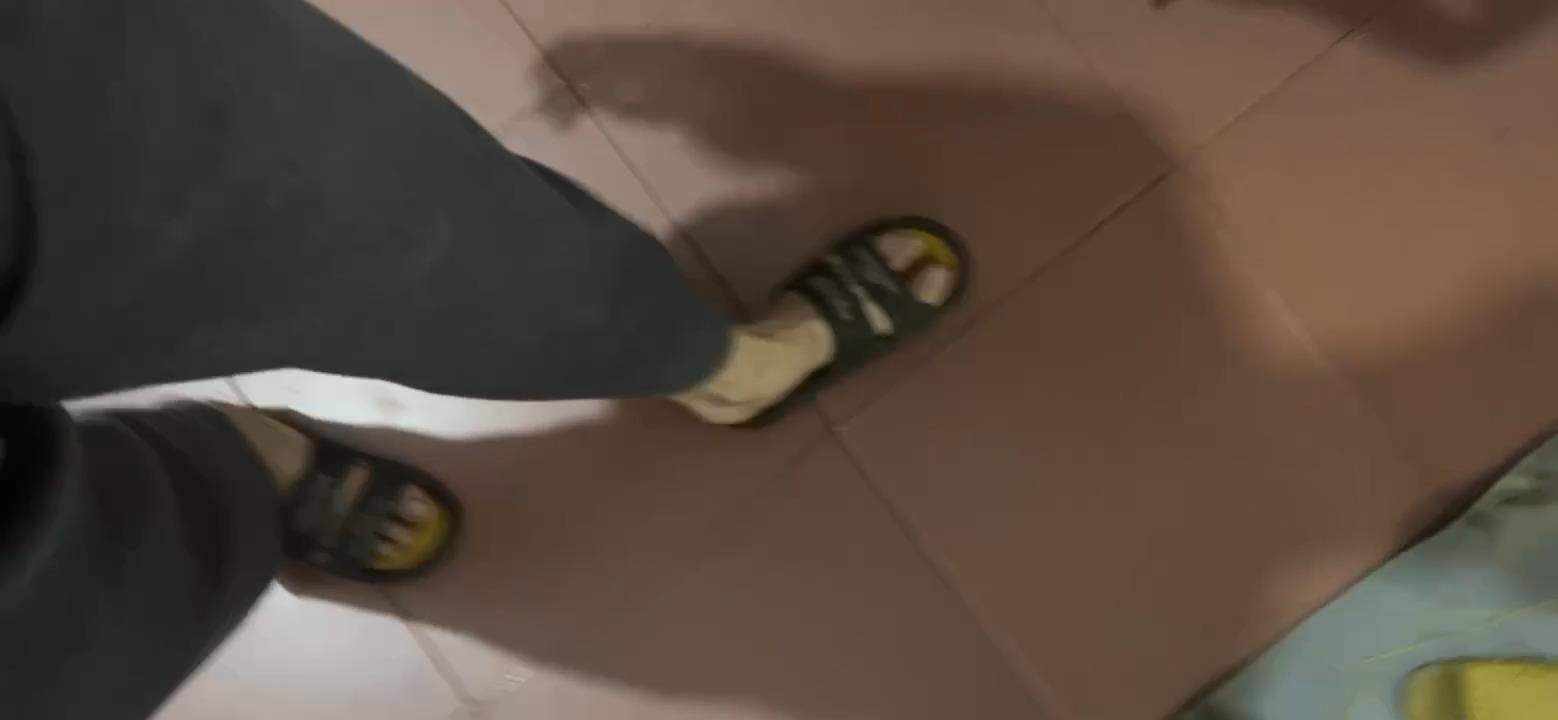no-boot: (697, 221, 977, 409), (209, 401, 455, 574)
